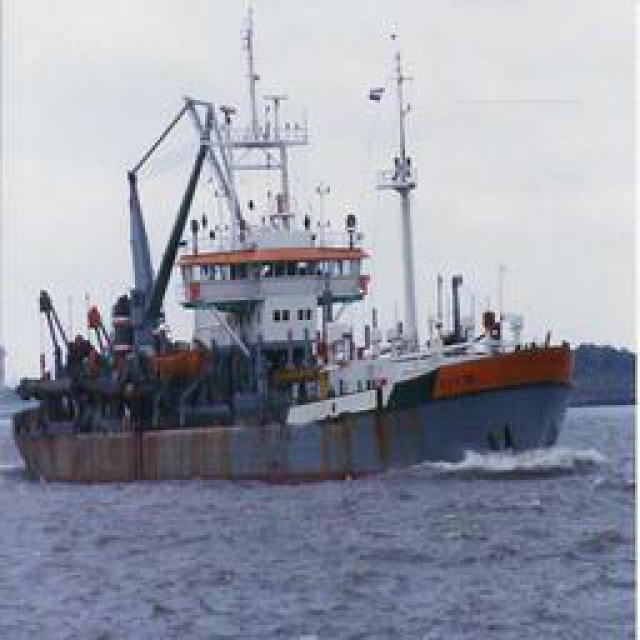Ship: (3, 5, 579, 492)
